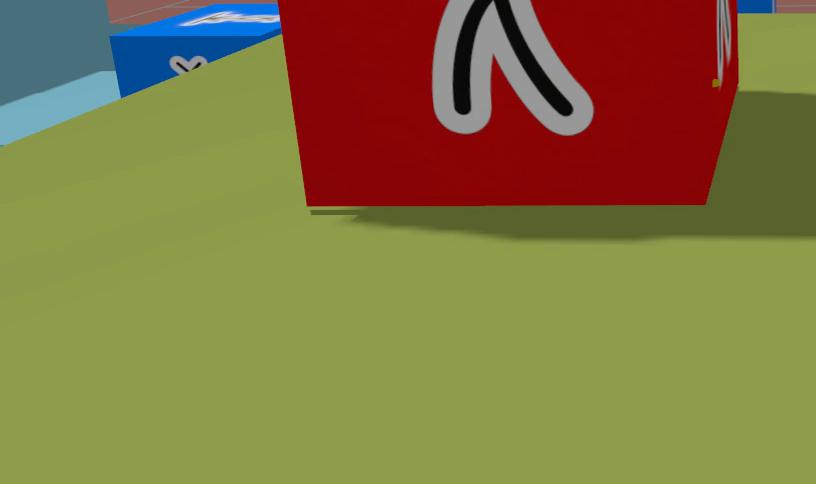KFS_FAKE: (280, 0, 741, 207), (431, 0, 593, 135)
KFS_REAL: (111, 4, 281, 96)
